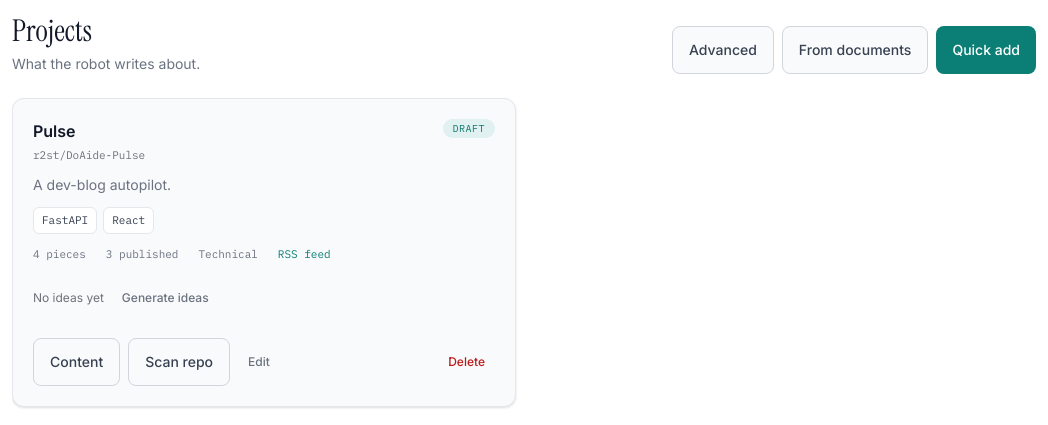
deleting a project › asks for confirmation naming the project before deleting, then reloads
The width and height of the screenshot is (1048, 425).
Check: the heading "Pulse" is shown, box [33,120,76,140]
Click the button "Delete" at (467, 362), box [438,338,495,386]
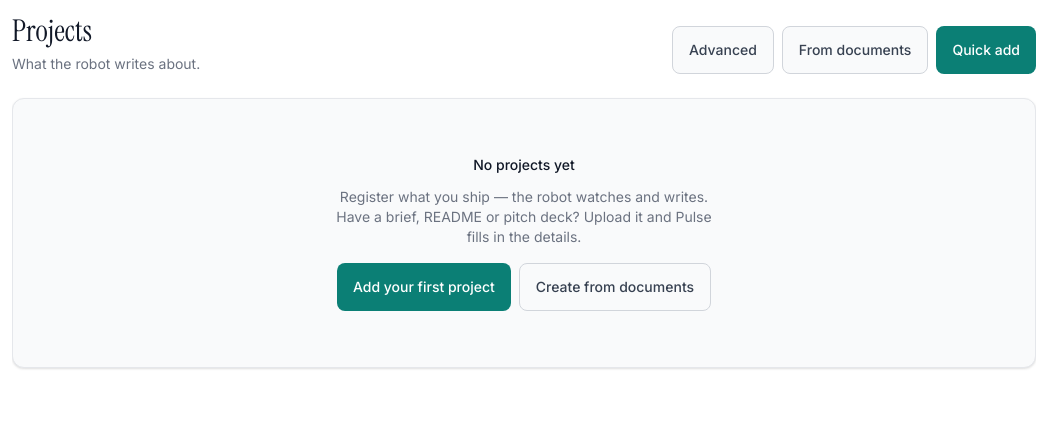
Check: the text "No projects yet" is shown, box [473,154,575,174]
